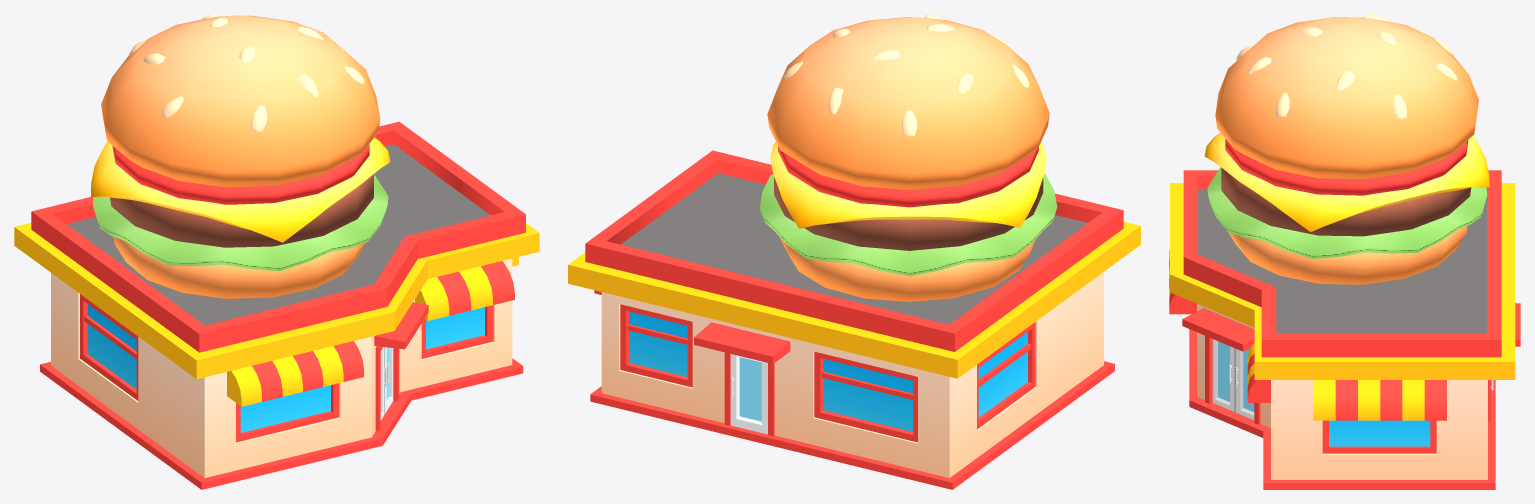
File: city2-building-snack-09.glb
3 renders of one model, left to right at view 1: azimuth 30°, elevation 25°; view 2: azimuth 150°, elevation 25°; view 3: azimuth 270°, elevation 25°, orthographic. The views are drawn at different scales.
Parts seen in each view (by area): view 1: Building_Snack_09; view 2: Building_Snack_09; view 3: Building_Snack_09.
Boxes of the visible parts, x1,y1,x2,y2 form: Building_Snack_09: [14, 14, 539, 489]; Building_Snack_09: [568, 14, 1140, 489]; Building_Snack_09: [1169, 14, 1520, 489].
Bounding box in the file's own units: 11.52 × 10.14 × 9.31.
Materials: 1 (1 with a texture image).
